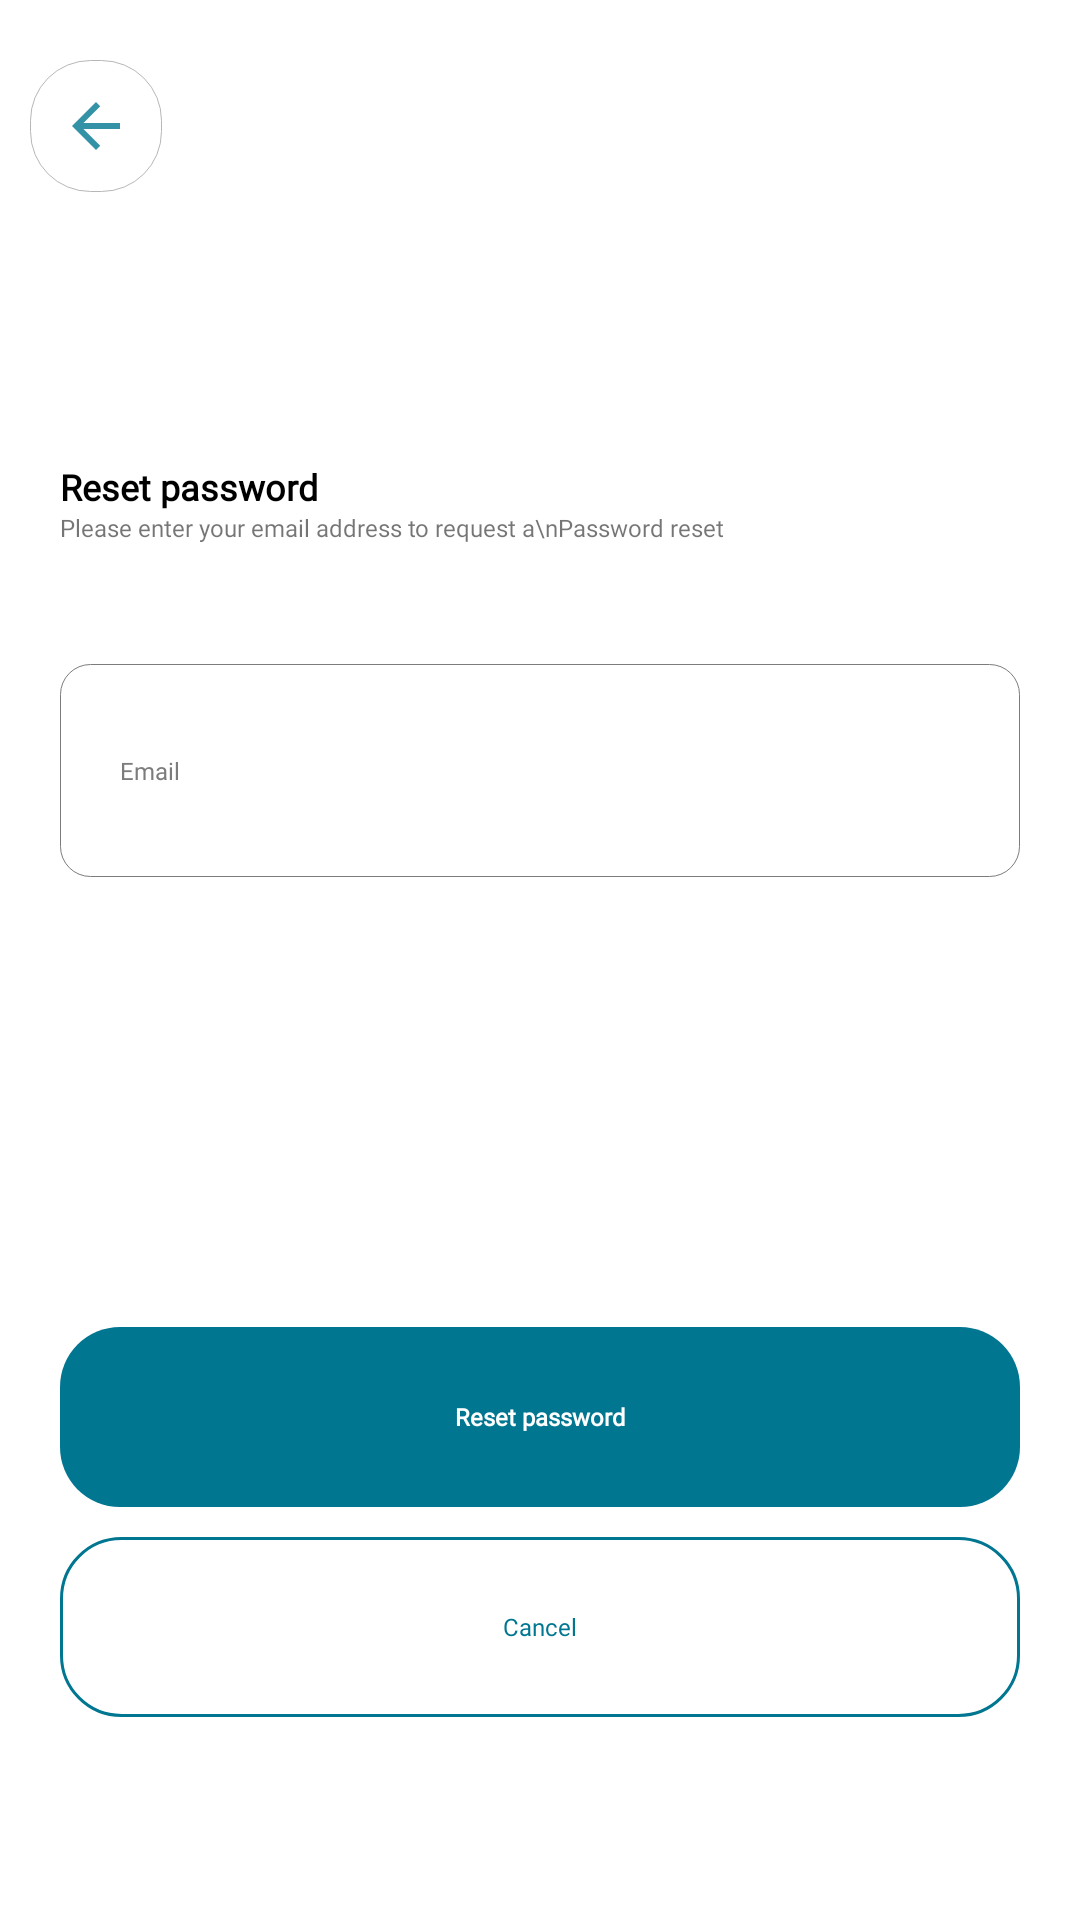

Screen size 1080 × 1920. Icon name, then its box in pixels as (x1, y1, x2, y2):
arrow back: (72, 102, 120, 150)
